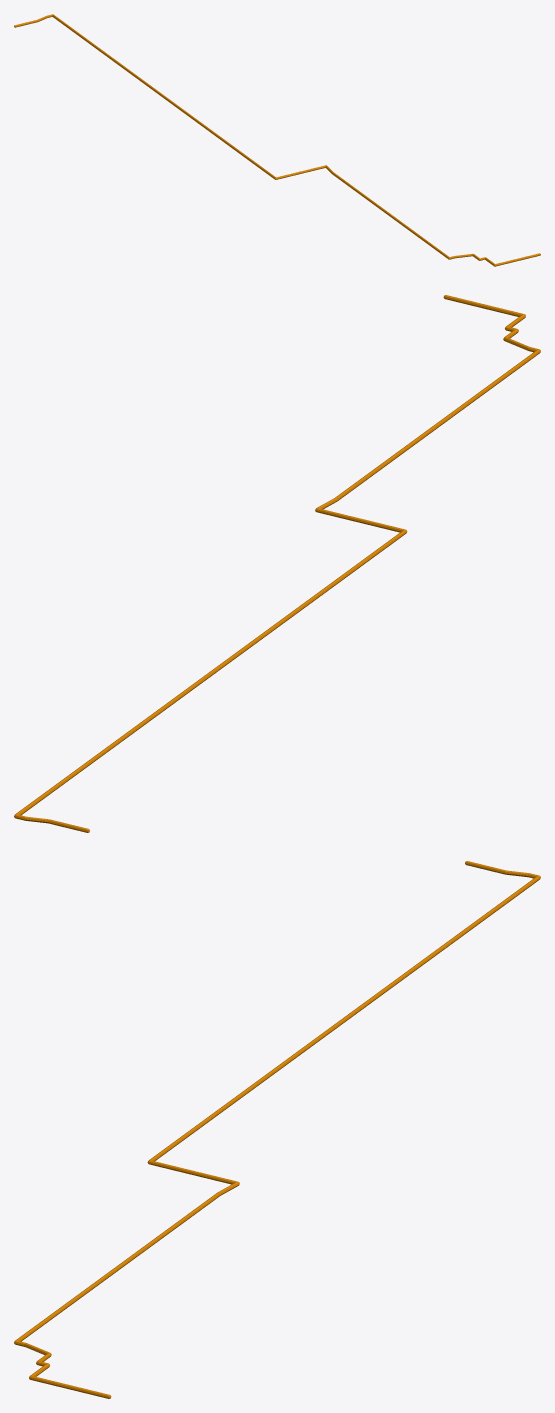
The picture shows the model from 3 angles, top to bottom: view 1: azimuth 30°, elevation 25°; view 2: azimuth 150°, elevation 25°; view 3: azimuth 330°, elevation 25°; orthographic projection. The views are drawn at different scales.
Bounding box in the file's own units: 1446 × 20 × 5691.
